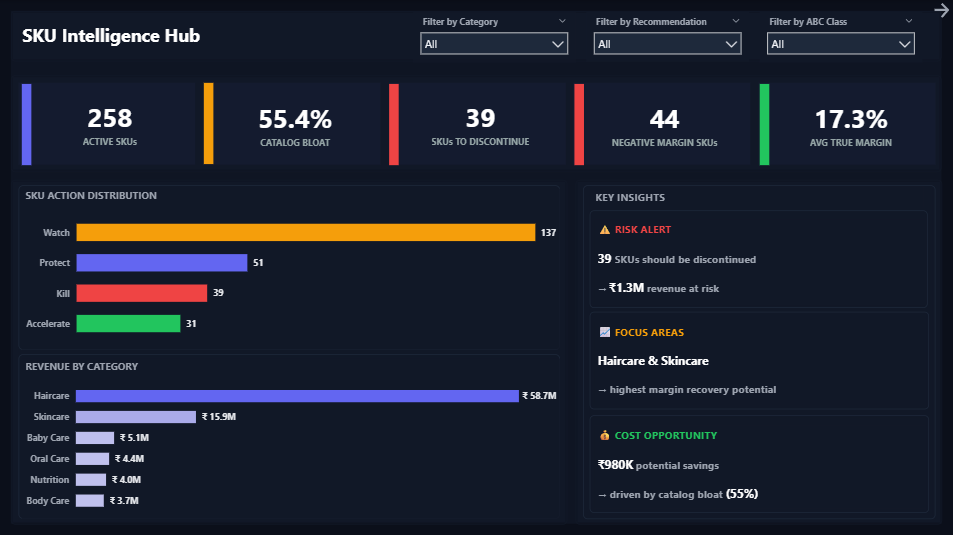

The page's visual inventory and layout, read from the dashboard file:
{"tool":"powerbi","page":{"name":"Executive Command","canvas":[1280,720],"ordinal":0},"visuals":[{"type":"shape","box":[14.9,241.2,748,463],"z":0},{"type":"shape","box":[14.9,14.9,1250.6,689.3],"z":1000},{"type":"shape","box":[14.9,14.9,1250.6,68],"z":2000},{"type":"shape","box":[14.9,101.2,1250.6,130],"z":3000},{"type":"shape","box":[772.7,241.2,492.8,463],"z":4000},{"type":"textbox","box":[25.3,26.8,272.5,44.7],"z":5000},{"type":"shape","box":[24.9,111.3,237.3,109.8],"z":6000},{"type":"shape","box":[273.9,111.3,237.3,109.8],"z":7000},{"type":"shape","box":[522.9,111.3,237.3,109.8],"z":8000},{"type":"shape","box":[770.8,112,238,109.8],"z":9000},{"type":"shape","box":[1019.4,112,238,109.8],"z":10000},{"type":"shape","box":[24.9,249,727.9,221],"z":11000},{"type":"shape","box":[24.9,476,727.9,221.1],"z":12000},{"type":"shape","box":[783.6,249,473.1,448.2],"z":13000},{"type":"barChart","title":"SKU ACTION DISTRIBUTION","fields":{"Category":["sku_rationalization_master.recommendation"],"Y":["_Measures.Total Active SKUs"]},"box":[29.3,253.4,723.5,216.8],"z":14000},{"type":"shape","box":[793,282.5,454.3,131.6],"z":15000},{"type":"shape","box":[793,558.6,455.9,131.6],"z":16000},{"type":"shape","box":[793,419,455.9,131.6],"z":17000},{"type":"textbox","box":[797.8,293.8,446.2,112.4],"z":18000},{"type":"textbox","box":[797.8,431.8,446.2,112.4],"z":19000},{"type":"textbox","box":[797.8,571.5,446.2,112.4],"z":20000},{"type":"textbox","box":[794.6,250.4,446.2,28],"z":21000},{"type":"barChart","title":"REVENUE BY CATEGORY","fields":{"Category":["sku_rationalization_master.category"],"Y":["_Measures.Total Portfolio Revenue"]},"box":[28.9,481.6,723.9,216.7],"z":22000},{"type":"shape","box":[28.9,112.4,12.8,109.2],"z":23000},{"type":"shape","box":[274.5,110.8,12.8,109.2],"z":24000},{"type":"shape","box":[523.3,112.4,12.8,109.2],"z":25000},{"type":"shape","box":[772.1,112.4,12.8,109.2],"z":26000},{"type":"shape","box":[1020.9,112.4,12.8,109.2],"z":27000},{"type":"cardVisual","fields":{"Data":["_Measures.Total Active SKUs"]},"box":[38.5,115.6,219.9,99.5],"z":28000},{"type":"cardVisual","fields":{"Data":["_Measures.Catalog Bloat %"]},"box":[287.3,117.2,219.9,99.5],"z":29000},{"type":"cardVisual","fields":{"Data":["_Measures.SKUs to Kill"]},"box":[536.1,115.6,219.9,99.5],"z":30000},{"type":"cardVisual","fields":{"Data":["_Measures.SKUs Negative Margin"]},"box":[783.4,117.2,219.9,99.5],"z":31000},{"type":"cardVisual","fields":{"Data":["_Measures.Avg True Margin %"]},"box":[1033.8,117.2,219.9,99.5],"z":32000},{"type":"slicer","fields":{"Values":["sku_rationalization_master.category"]},"box":[554.8,16.5,218,67.7],"z":33000},{"type":"slicer","fields":{"Values":["sku_rationalization_master.abc_class"]},"box":[1020.8,16.5,218,67.7],"z":34000},{"type":"slicer","fields":{"Values":["sku_rationalization_master.recommendation"]},"box":[787.7,16.5,218.2,67.4],"z":35000},{"type":"actionButton","box":[1250.8,0,28.6,28.6],"z":36000}]}

Visuals, with their boxes in screenshot pixels (x1, y1, x2, y2), scaled from the page's 1280x720 canvas onto the 953x535 screenshot:
shape: bbox=(11, 179, 568, 523)
shape: bbox=(11, 11, 942, 523)
shape: bbox=(11, 11, 942, 62)
shape: bbox=(11, 75, 942, 172)
shape: bbox=(575, 179, 942, 523)
textbox: bbox=(19, 20, 222, 53)
shape: bbox=(19, 83, 195, 164)
shape: bbox=(204, 83, 381, 164)
shape: bbox=(389, 83, 566, 164)
shape: bbox=(574, 83, 751, 165)
shape: bbox=(759, 83, 936, 165)
shape: bbox=(19, 185, 560, 349)
shape: bbox=(19, 354, 560, 518)
shape: bbox=(583, 185, 936, 518)
"SKU ACTION DISTRIBUTION" barChart: bbox=(22, 188, 560, 349)
shape: bbox=(590, 210, 929, 308)
shape: bbox=(590, 415, 930, 513)
shape: bbox=(590, 311, 930, 409)
textbox: bbox=(594, 218, 926, 302)
textbox: bbox=(594, 321, 926, 404)
textbox: bbox=(594, 425, 926, 508)
textbox: bbox=(592, 186, 924, 207)
"REVENUE BY CATEGORY" barChart: bbox=(22, 358, 560, 519)
shape: bbox=(22, 84, 31, 165)
shape: bbox=(204, 82, 214, 163)
shape: bbox=(390, 84, 399, 165)
shape: bbox=(575, 84, 584, 165)
shape: bbox=(760, 84, 770, 165)
cardVisual - _Measures.Total Active SKUs: bbox=(29, 86, 192, 160)
cardVisual - _Measures.Catalog Bloat %: bbox=(214, 87, 378, 161)
cardVisual - _Measures.SKUs to Kill: bbox=(399, 86, 563, 160)
cardVisual - _Measures.SKUs Negative Margin: bbox=(583, 87, 747, 161)
cardVisual - _Measures.Avg True Margin %: bbox=(770, 87, 933, 161)
slicer - sku_rationalization_master.category: bbox=(413, 12, 575, 63)
slicer - sku_rationalization_master.abc_class: bbox=(760, 12, 922, 63)
slicer - sku_rationalization_master.recommendation: bbox=(586, 12, 749, 62)
actionButton: bbox=(931, 0, 952, 21)
